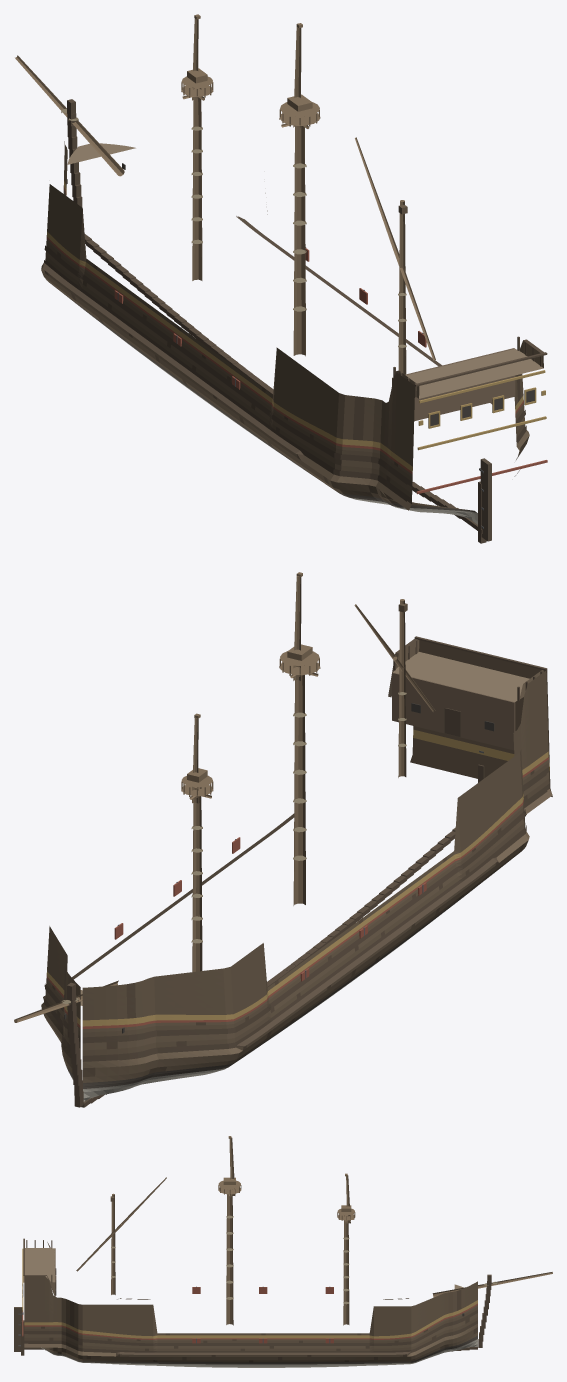
Rendered from garza.glb.
The picture shows the model from 3 angles, top to bottom: view 1: azimuth 30°, elevation 25°; view 2: azimuth 150°, elevation 25°; view 3: azimuth 270°, elevation 25°; orthographic projection. The views are drawn at different scales.
Visible parts, largest first — view 1: Hull; view 2: Hull; view 3: Hull.
Boxes of the visible parts, x1,y1,x2,y2 form: Hull: [15, 14, 547, 543]; Hull: [14, 572, 552, 1107]; Hull: [14, 1136, 552, 1367].
Bounding box in the file's own units: 7.96 × 14.74 × 32.38.
